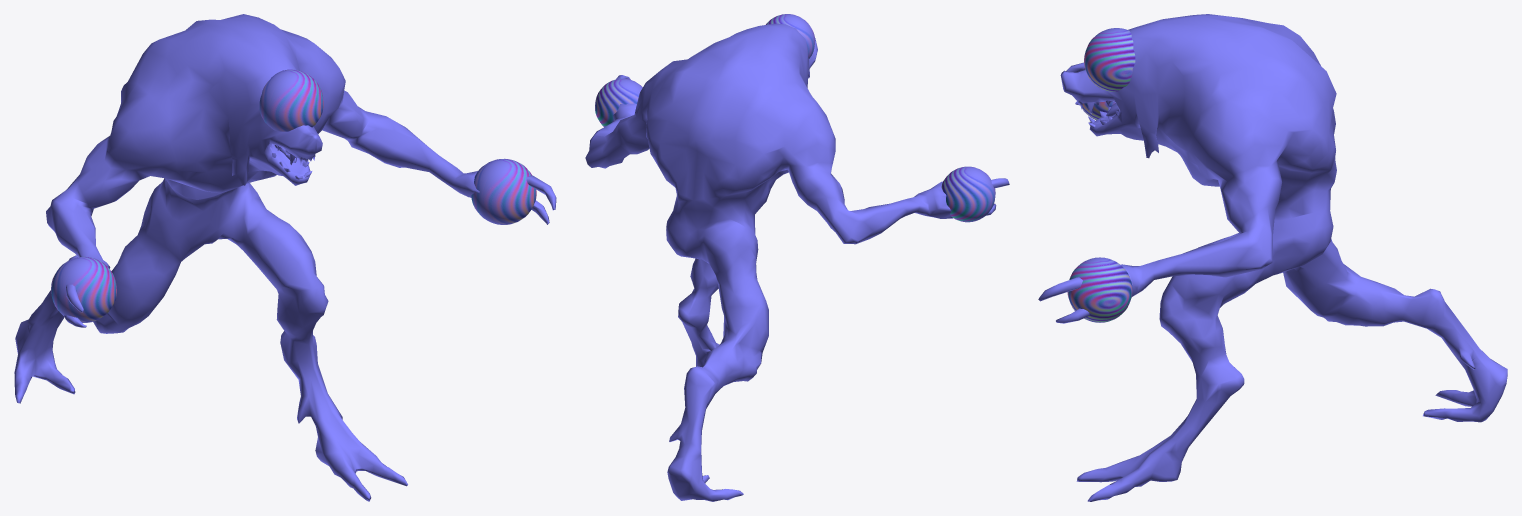
Rendered from Enemy.fbx.
3 renders of one model, left to right at view 1: azimuth 30°, elevation 25°; view 2: azimuth 150°, elevation 25°; view 3: azimuth 270°, elevation 25°, orthographic. The views are drawn at different scales.
Parts seen in each view (by area): view 1: pasted__pasted__pSphere1; view 2: pasted__pasted__pSphere1; view 3: pasted__pasted__pSphere1.
Boxes of the visible parts, bbox=[...] form: pasted__pasted__pSphere1: bbox=[14, 14, 556, 501]; pasted__pasted__pSphere1: bbox=[585, 14, 1009, 501]; pasted__pasted__pSphere1: bbox=[1038, 14, 1507, 501].
Bounding box in the file's own units: 620 × 545 × 539.
Materials: 3 (3 with a texture image).
